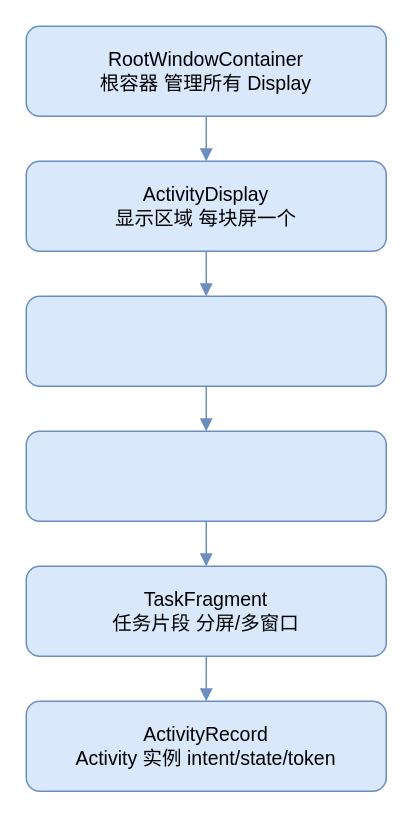
The diagram is 413 pixels wide and 818 high, and some of its shapes have lost their labels. Each missing label, with the box of its shape:
ActivityStack 任务栈容器 管理多个 Task: (25, 295, 386, 386)
Task 任务栈 返回栈 mActivities: (25, 430, 386, 521)
